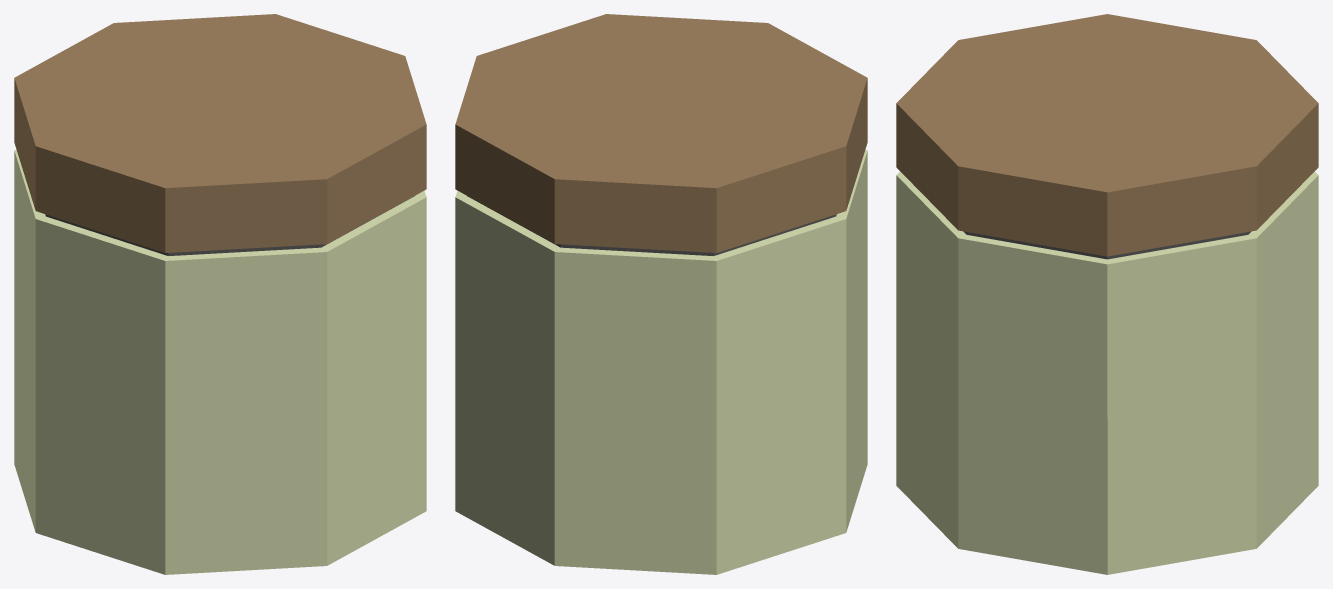
File: BathroomProps_10.fbx
3 renders of one model, left to right at view 1: azimuth 30°, elevation 25°; view 2: azimuth 150°, elevation 25°; view 3: azimuth 270°, elevation 25°, orthographic.
Visible parts, largest first — view 1: BathroomProps_10; view 2: BathroomProps_10; view 3: BathroomProps_10.
Boxes of the visible parts, x1,y1,x2,y2 form: BathroomProps_10: [14, 14, 426, 574]; BathroomProps_10: [455, 14, 867, 574]; BathroomProps_10: [896, 14, 1318, 574].
Size of the model in its own units: 12.04 by 12.04 by 12.04.
